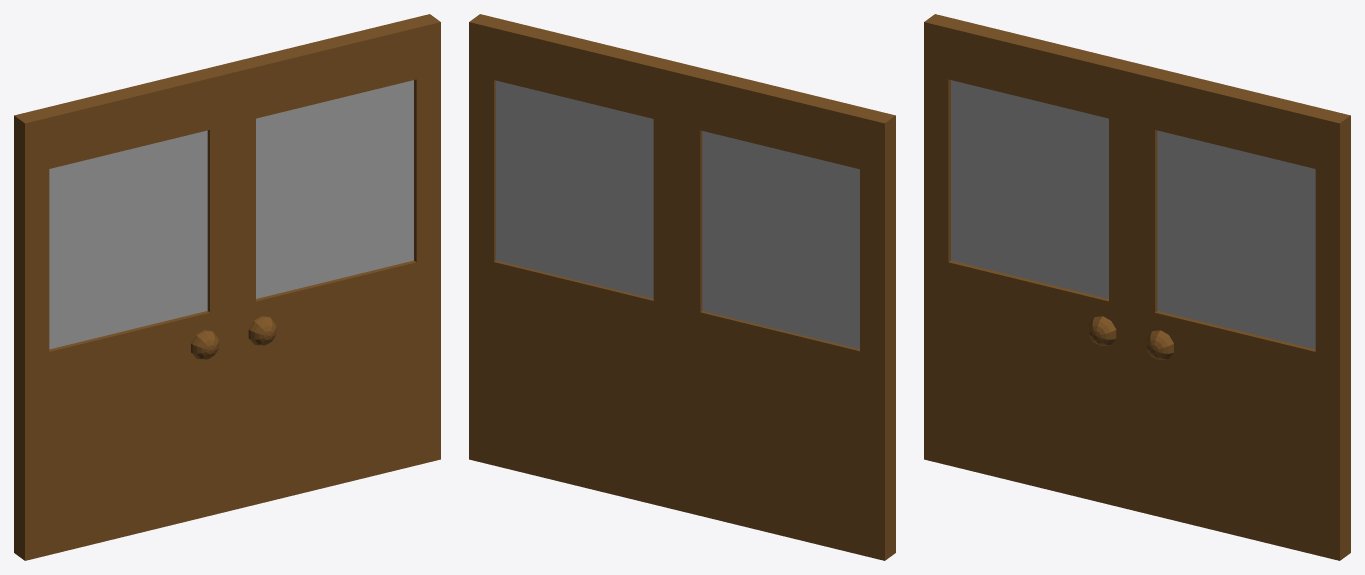
File: DoubleDoor.fbx
The picture shows the model from 3 angles, left to right: view 1: azimuth 30°, elevation 25°; view 2: azimuth 150°, elevation 25°; view 3: azimuth 330°, elevation 25°; orthographic projection.
Visible parts, largest first — view 1: polySurface85; view 2: polySurface85; view 3: polySurface85.
Boxes of the visible parts, x1=… form: polySurface85: x1=14, y1=14, x2=440, y2=560; polySurface85: x1=469, y1=14, x2=895, y2=560; polySurface85: x1=924, y1=14, x2=1350, y2=560.
Size of the model in its own units: 5.11 by 5.14 by 0.3835.
